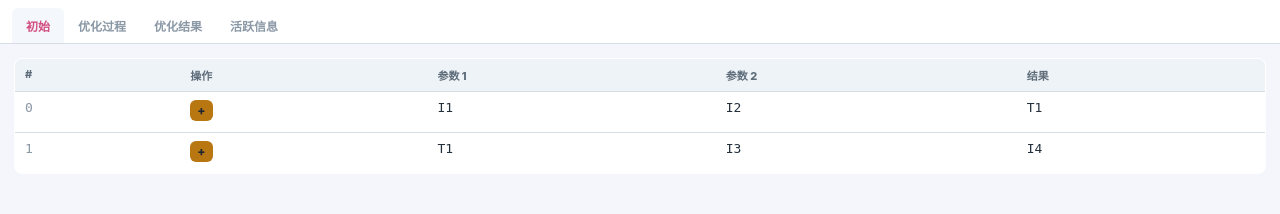
Test: QuadruplePanel › renders optimized quadruple liveness annotations
The image size is (1280, 214).
Step 1. Click the tab "活跃信息" → (254, 26), box [216,8,292,43]
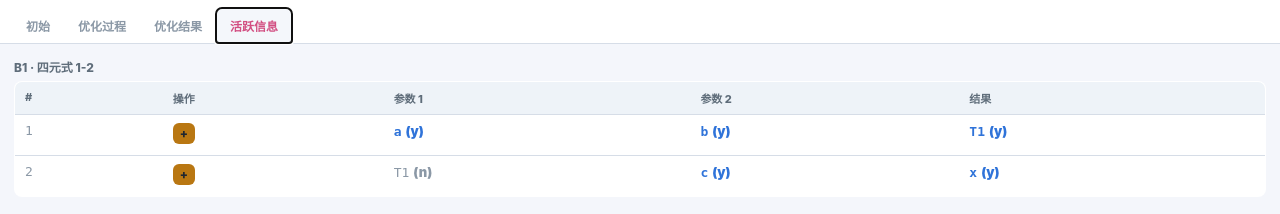
Expected: the text "a" is shown, [394,124,401,139]
Expected: the 1st text "(y)" is shown, [406,123,424,139]
Expected: the text "T1" is shown 2 times, [969,124,985,139]; [394,165,409,180]
